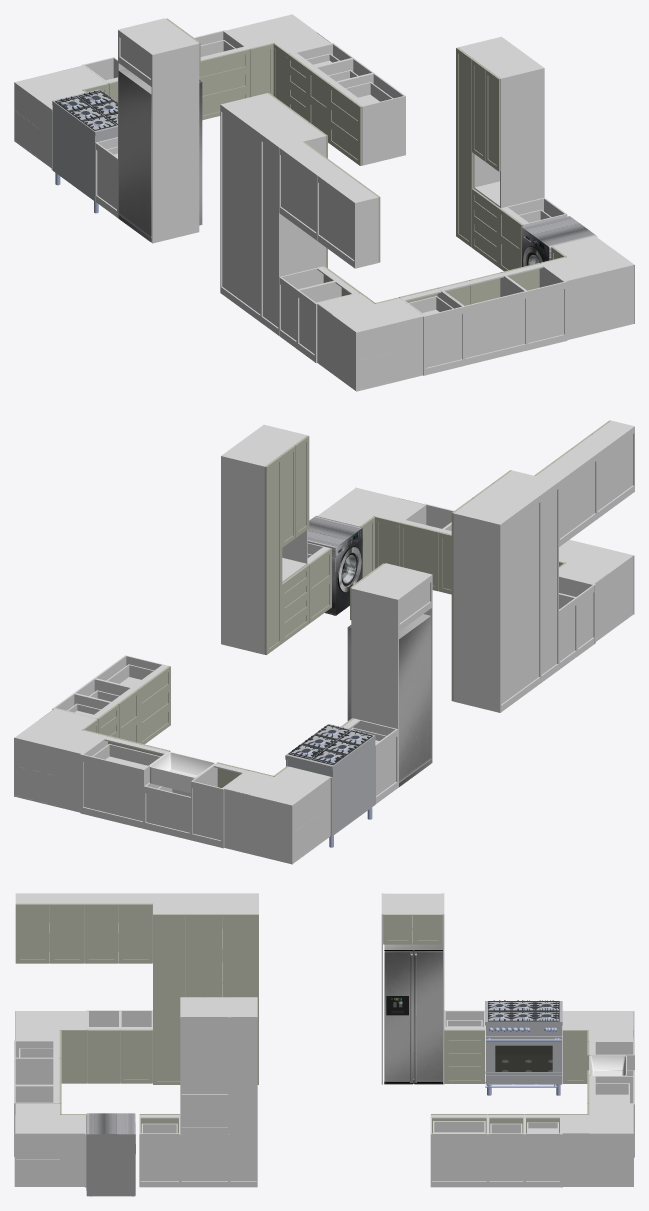
File: Analise_V3.glb
3 renders of one model, top to bottom at view 1: azimuth 30°, elevation 25°; view 2: azimuth 150°, elevation 25°; view 3: azimuth 270°, elevation 25°, orthographic. The views are drawn at different scales.
Parts seen in each view (by area): view 1: Kickplate_022_mesh_000, 2_Door_028_mesh_005, Double Door Fridge, G-Object.012, 2_Door_041_mesh_001, Corner_032_mesh_007, Corner_023_mesh_006, 1_Door_027_mesh_005, 2_Door_030_mesh_005, 3_Drawer_016_mesh_001, 1_Door_027_mesh_000, Corner_023_mesh_007 (+39 smaller); view 2: 2_Door_028_mesh_001, 1_Door_039_mesh_000, 2_Door_028_mesh_005, Kickplate_023_mesh_000, G-Object.012, Double Door Fridge, Corner_002_mesh_007, Corner_008_mesh_006, çamaşır+makinesi2, 1_Door_027_mesh_005, 3_Drawer_007_mesh_006, 1_Door_039_mesh_008 (+31 smaller); view 3: Double Door Fridge, G-Object.012, 1_Door_039_mesh_005, çamaşır+makinesi2, 1_Door_027_mesh_008, Corner_008_mesh_007, Corner_032_mesh_006, 2_Door_041_mesh_005, 2_Door_028_mesh_009, 3_Drawer_016_mesh_006, 2_Door_028_mesh_008, 4_Drawer_034_mesh_006 (+38 smaller).
Part boxes in pixels (left/top/right/bottom): Kickplate_022_mesh_000: left=151, top=43, right=199, bottom=243; 2_Door_028_mesh_005: left=222, top=105, right=261, bottom=313; Double Door Fridge: left=118, top=68, right=202, bottom=242; G-Object.012: left=52, top=89, right=117, bottom=213; 2_Door_041_mesh_001: left=500, top=67, right=544, bottom=171; Corner_032_mesh_007: left=567, top=264, right=634, bottom=339; Corner_023_mesh_006: left=356, top=316, right=423, bottom=391; 1_Door_027_mesh_005: left=263, top=135, right=279, bottom=327; 2_Door_030_mesh_005: left=465, top=292, right=524, bottom=357; 3_Drawer_016_mesh_001: left=362, top=95, right=405, bottom=165; 1_Door_027_mesh_000: left=278, top=135, right=325, bottom=335; Corner_023_mesh_007: left=317, top=304, right=356, bottom=391; 2_Door_028_mesh_001: left=453, top=513, right=501, bottom=712; 1_Door_039_mesh_000: left=221, top=455, right=264, bottom=654; 2_Door_028_mesh_005: left=501, top=495, right=538, bottom=704; Kickplate_023_mesh_000: left=351, top=588, right=398, bottom=787; G-Object.012: left=285, top=724, right=375, bottom=847; Double Door Fridge: left=347, top=614, right=431, bottom=786; Corner_002_mesh_007: left=224, top=789, right=292, bottom=864; Corner_008_mesh_006: left=14, top=737, right=80, bottom=812; çamaşır+makinesi2: left=307, top=516, right=362, bottom=615; 1_Door_027_mesh_005: left=541, top=483, right=556, bottom=674; 3_Drawer_007_mesh_006: left=83, top=754, right=142, bottom=821; 1_Door_039_mesh_008: left=264, top=455, right=281, bottom=654; Double Door Fridge: left=384, top=944, right=442, bottom=1084; G-Object.012: left=485, top=1000, right=562, bottom=1095; 1_Door_039_mesh_005: left=230, top=1016, right=256, bottom=1180; çamaşır+makinesi2: left=86, top=1113, right=135, bottom=1196; 1_Door_027_mesh_008: left=153, top=914, right=185, bottom=1080; Corner_008_mesh_007: left=562, top=1133, right=633, bottom=1186; Corner_032_mesh_006: left=14, top=1133, right=84, bottom=1186; 2_Door_041_mesh_005: left=181, top=1016, right=227, bottom=1094; 2_Door_028_mesh_009: left=222, top=914, right=258, bottom=997; 3_Drawer_016_mesh_006: left=432, top=1133, right=486, bottom=1180; 2_Door_028_mesh_008: left=185, top=914, right=222, bottom=997; 4_Drawer_034_mesh_006: left=181, top=1140, right=227, bottom=1180.
Size of the model in its own units: 3.58 by 2.46 by 7.6.
Materials: 391 (3 with a texture image).
